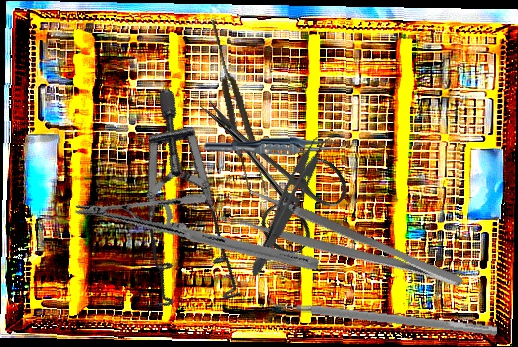Dressing Forceps: (235, 185, 468, 311)
Iris Scissors: (167, 69, 360, 262)
Needle Holder: (72, 142, 322, 331)
Spatula Surgical: (266, 290, 499, 337)
Speculum: (81, 87, 306, 335)
Tissue Forceps: (246, 125, 337, 284), (203, 15, 269, 199), (203, 134, 348, 159)
